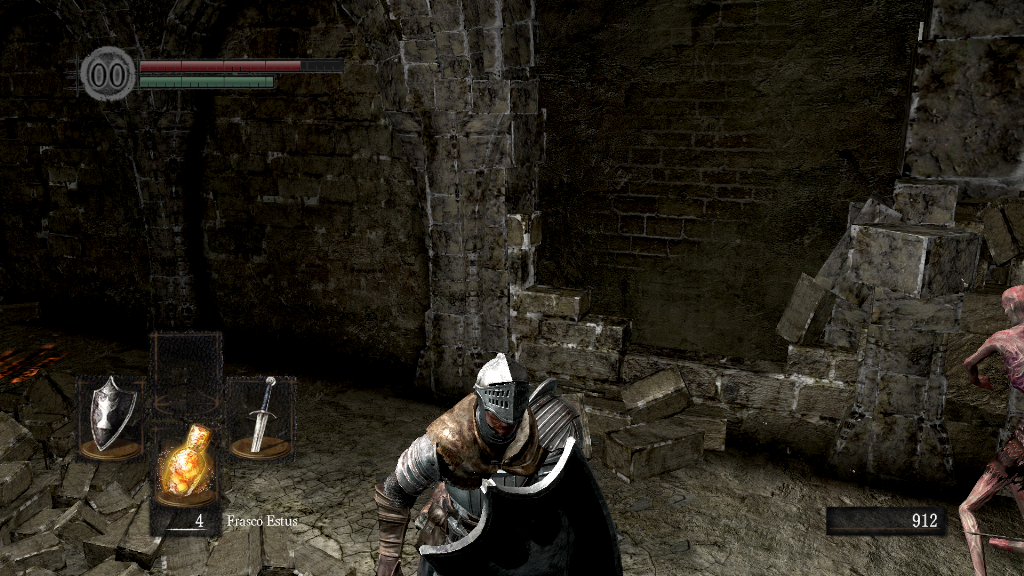health: (138, 58, 343, 71)
hollow: (958, 283, 1023, 576)
humanity: (80, 45, 136, 102)
player: (370, 350, 626, 576)
souls: (825, 506, 945, 536)
stamina: (138, 74, 274, 88)
